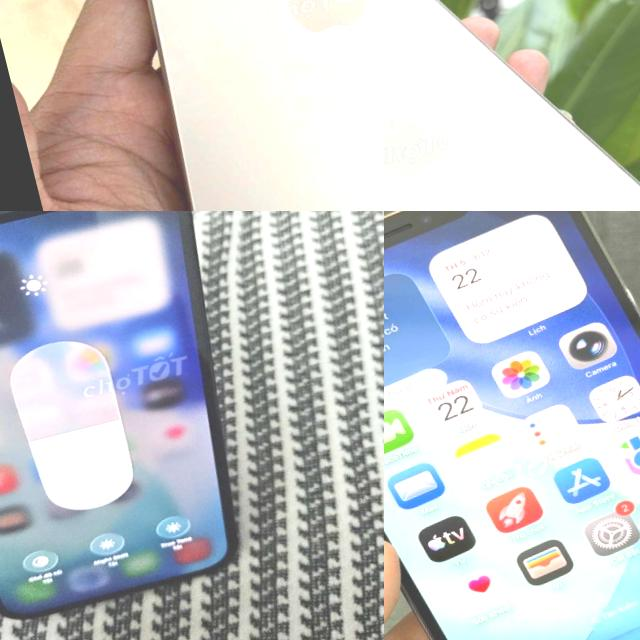gen_12_13: (0, 211, 281, 640), (384, 211, 640, 640)
gen_16: (384, 0, 640, 211), (147, 0, 384, 211)
